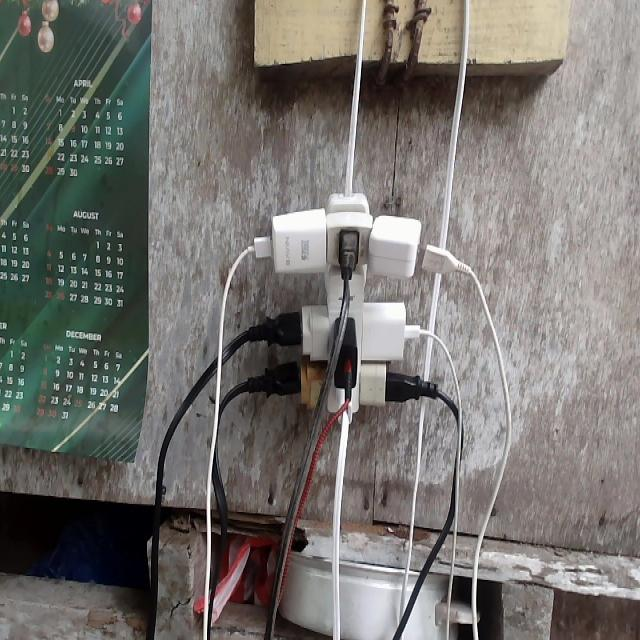-: (240, 191, 460, 421)
